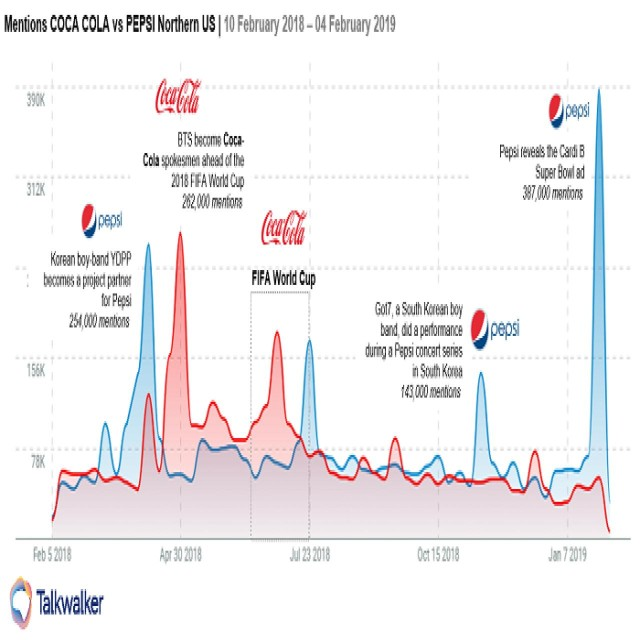pepsi: (470, 304, 490, 353), (548, 90, 564, 130), (81, 200, 96, 241)
